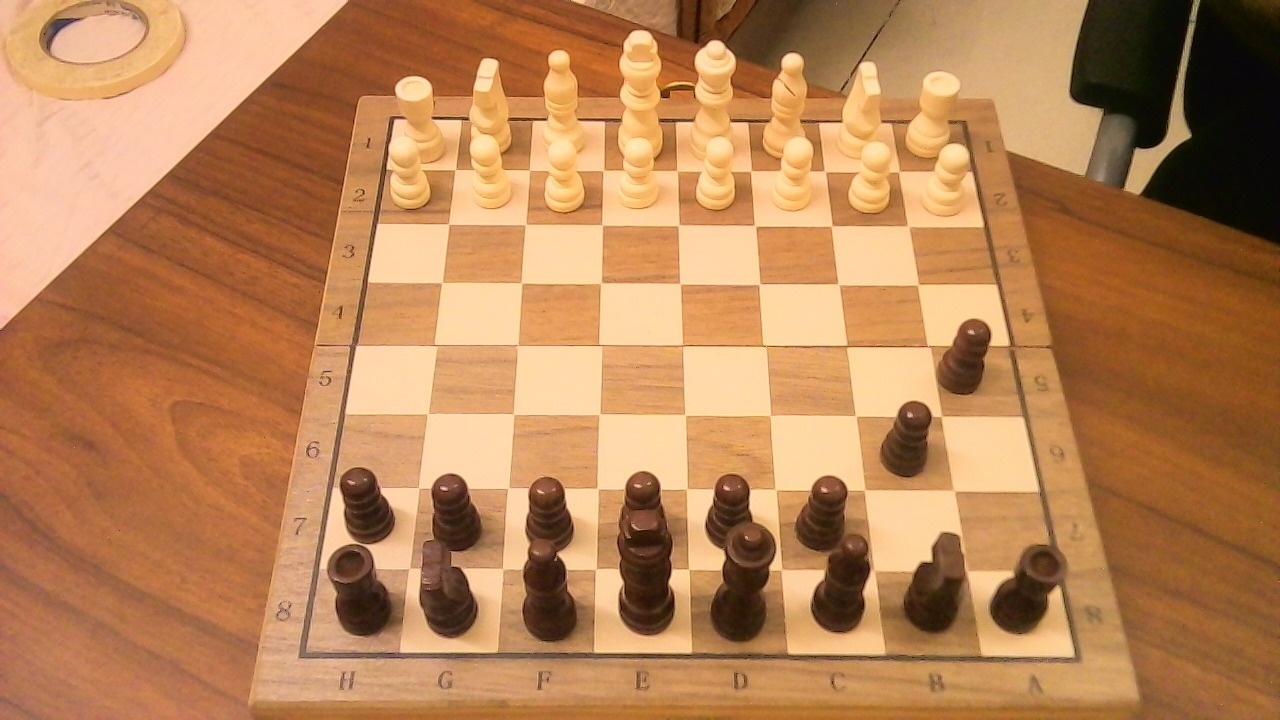B: (757, 42, 818, 165), (534, 38, 594, 159)
K: (610, 19, 672, 164)
N: (827, 48, 891, 166), (460, 48, 520, 159)
P: (915, 134, 978, 221), (763, 127, 823, 217), (460, 124, 518, 214), (840, 133, 901, 217), (535, 130, 592, 217), (688, 127, 744, 215), (610, 127, 666, 215), (382, 127, 437, 211)
Q: (682, 29, 746, 166)
R: (899, 61, 966, 162), (390, 66, 451, 167)
b: (508, 540, 591, 646), (829, 521, 884, 638)
k: (602, 486, 691, 639)
n: (902, 516, 979, 636), (410, 528, 491, 642)
p: (603, 458, 681, 565), (331, 456, 405, 544), (874, 388, 944, 481), (422, 462, 494, 551), (937, 307, 1001, 397), (522, 477, 576, 550), (803, 475, 853, 550), (707, 473, 755, 550)
q: (700, 509, 790, 646)
r: (985, 531, 1077, 638), (321, 532, 402, 639)
